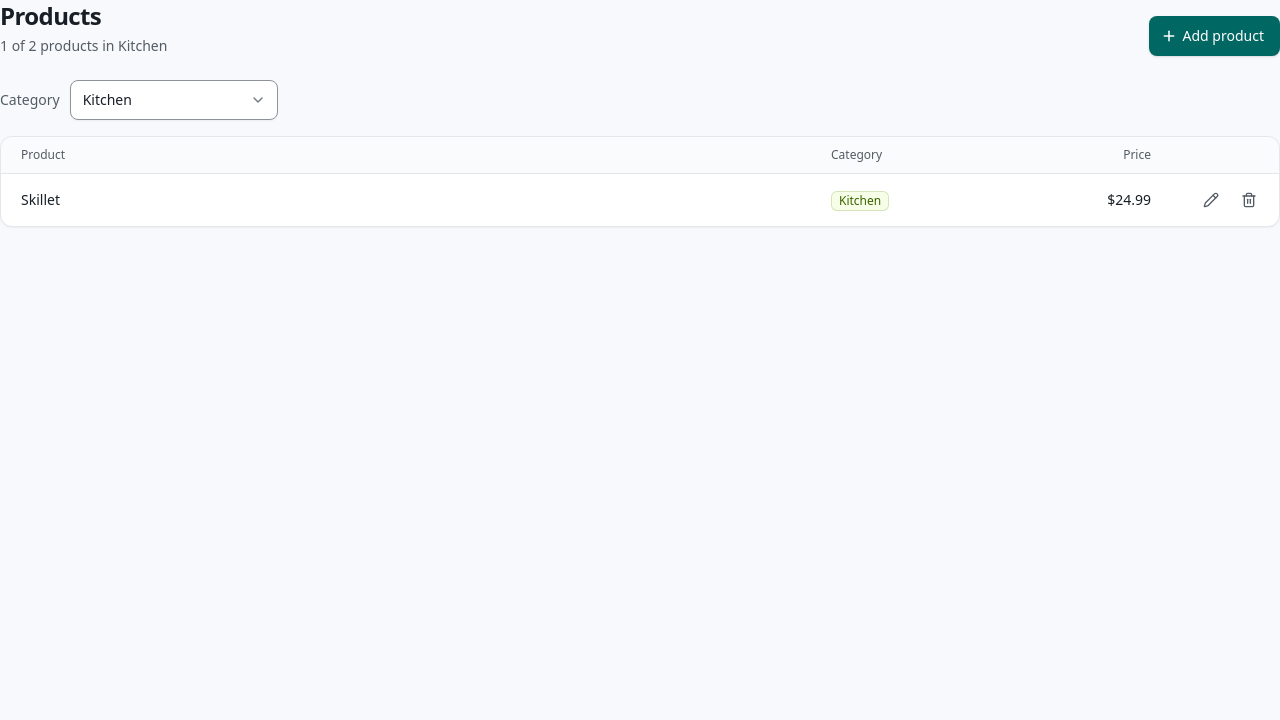
delete product › explains the fallback and clears the URL when the filtered category loses its last product
Step 1. Click the button named "Delete Skillet" → (1249, 200), box [1231, 182, 1267, 218]
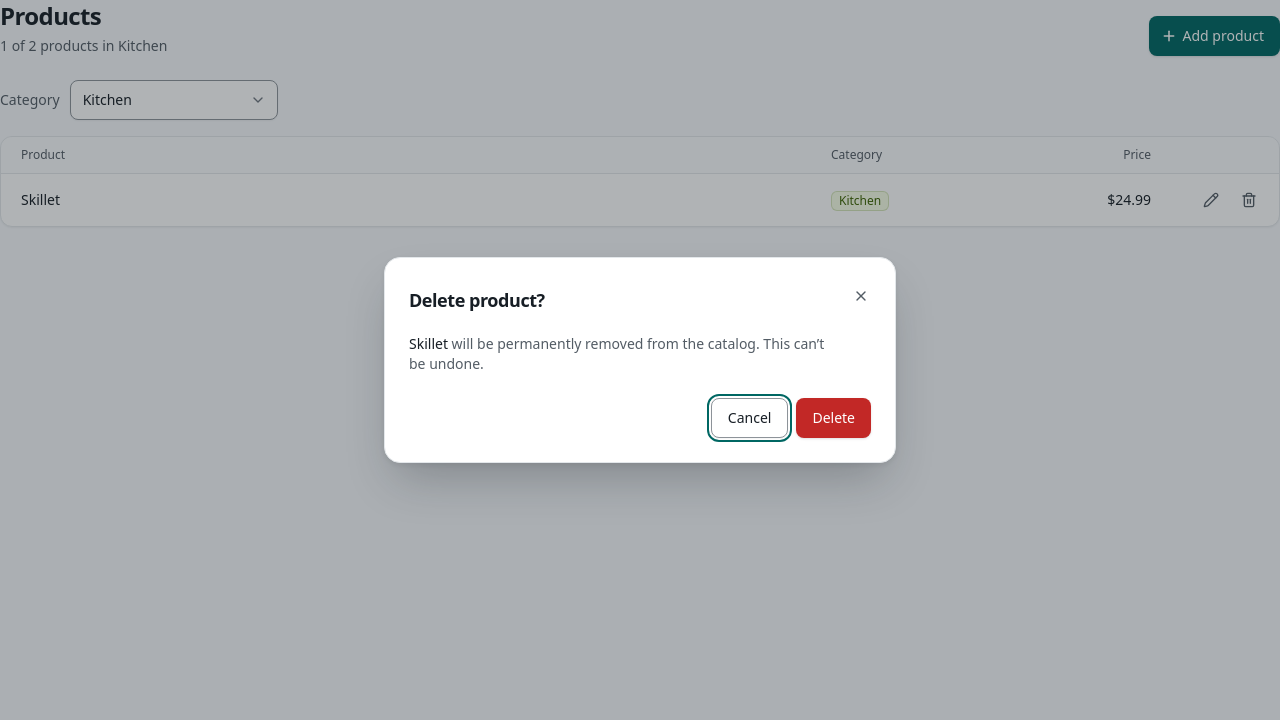
Step 2. Click the button "Delete" → (834, 418), box [796, 398, 871, 438]
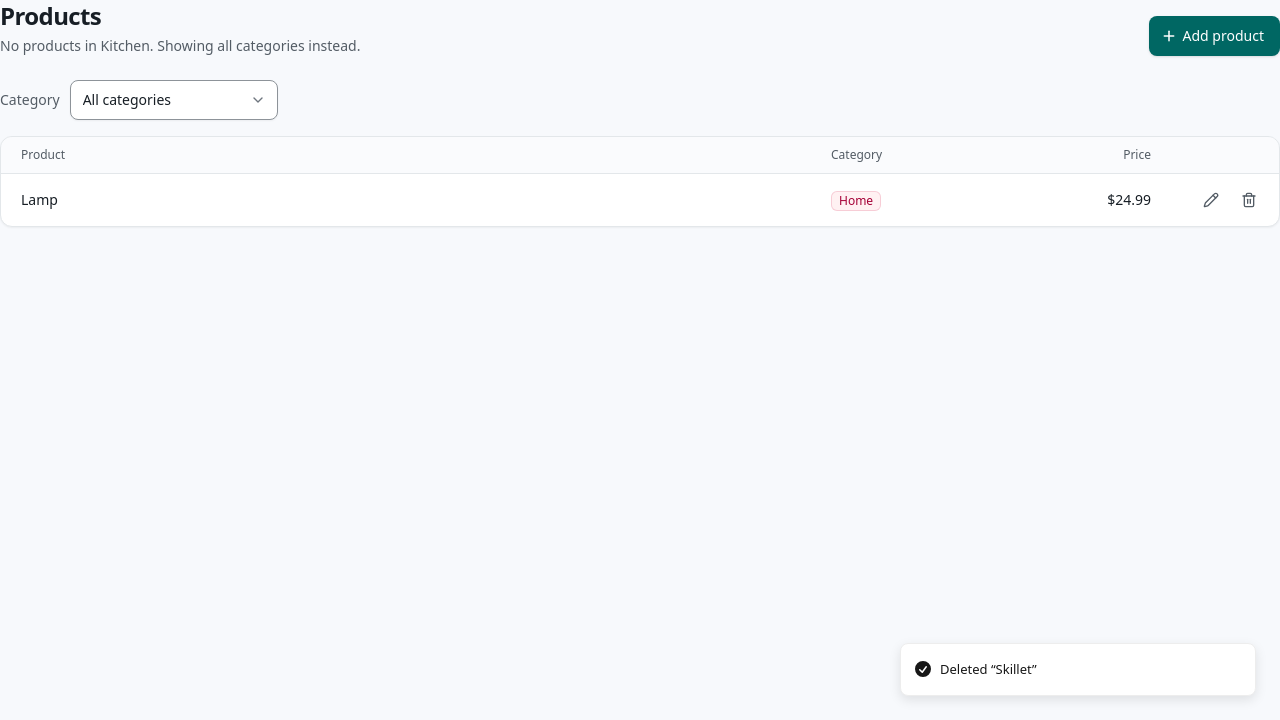
Expected: the text "No products in Kitchen. Showing all categories instead." is shown, [0, 36, 360, 56]
Expected: the button named "Delete Lamp" is shown, [1231, 182, 1267, 218]
